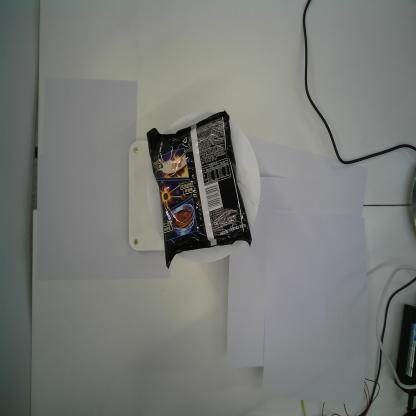Instant Noodles: (144, 107, 254, 269)
